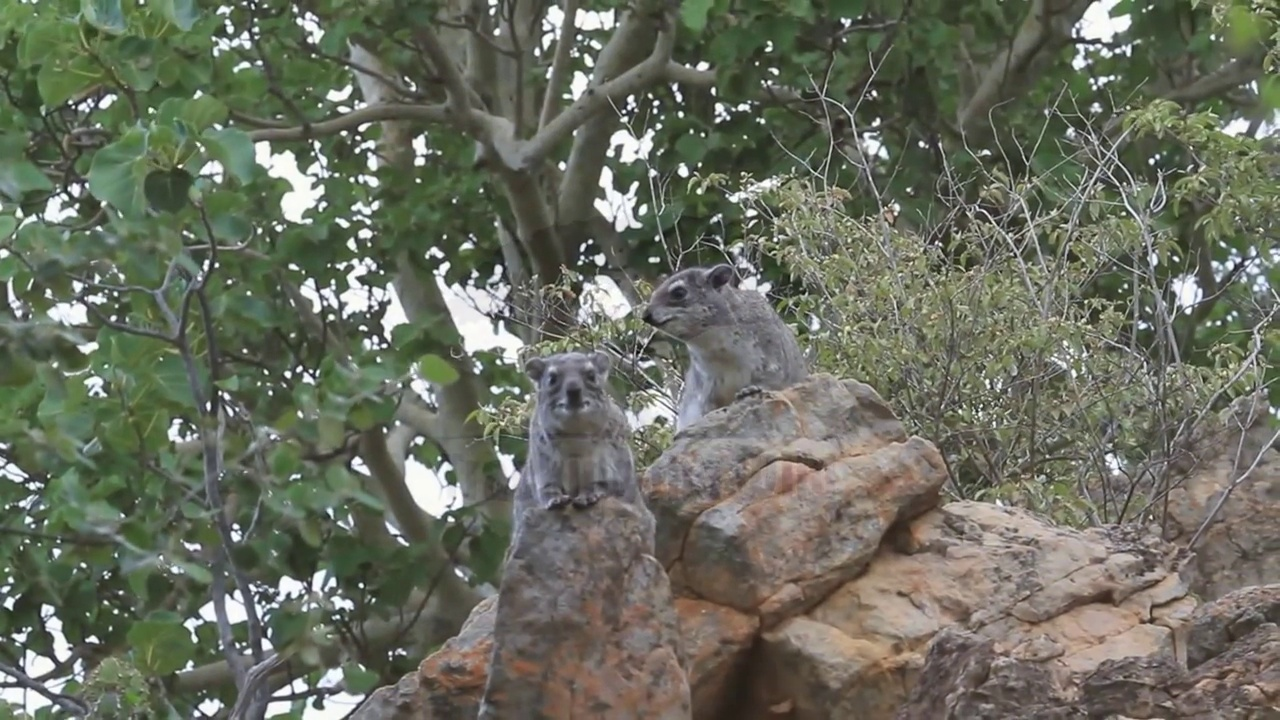Rock Hyrex: (639, 262, 806, 441), (524, 349, 642, 519)
